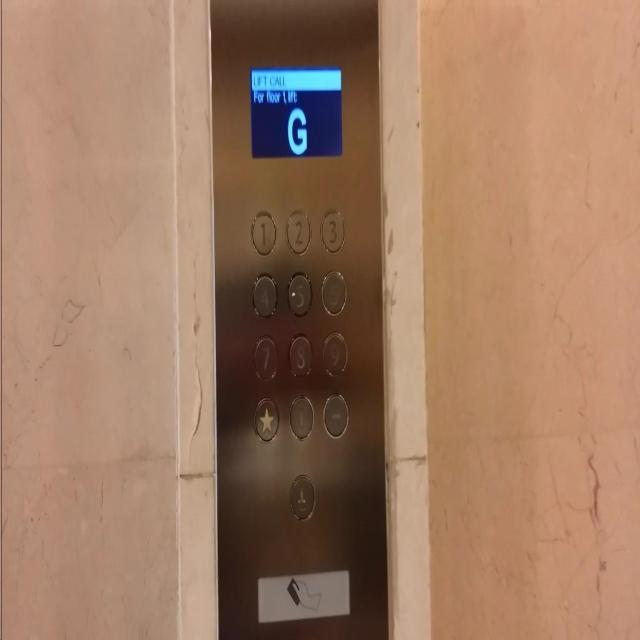-: (322, 388, 349, 441)
1: (250, 206, 278, 257)
2: (284, 205, 312, 257)
3: (318, 207, 346, 255)
4: (250, 269, 279, 320)
5: (285, 268, 313, 320)
6: (319, 266, 348, 318)
7: (251, 333, 279, 384)
8: (286, 330, 314, 382)
9: (320, 328, 348, 380)
blur: (287, 390, 315, 442)
led: (247, 61, 344, 160)
s: (252, 392, 280, 444)
unknown: (288, 470, 316, 522)
